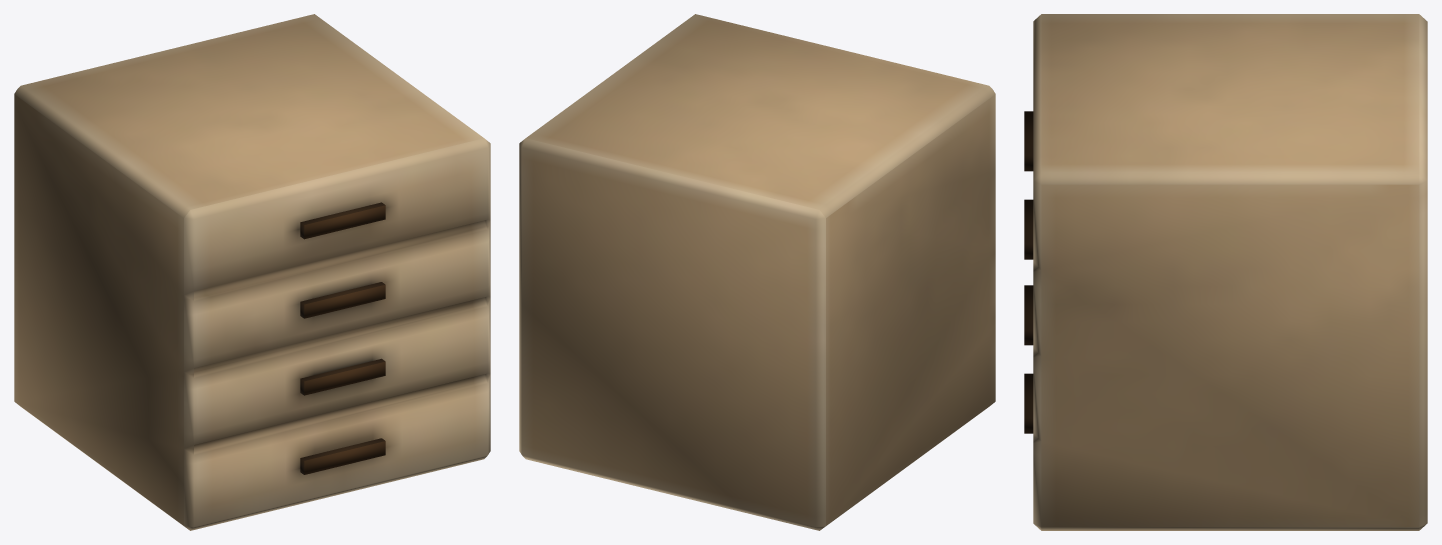
The model's file is Kitchen Cabinet1.fbx.
The picture shows the model from 3 angles, left to right: view 1: azimuth 30°, elevation 25°; view 2: azimuth 150°, elevation 25°; view 3: azimuth 270°, elevation 25°; orthographic projection. The views are drawn at different scales.
Parts seen in each view (by area): view 1: Kitchen Cabinet1; view 2: Kitchen Cabinet1; view 3: Kitchen Cabinet1.
Boxes of the visible parts, x1,y1,x2,y2 form: Kitchen Cabinet1: [14, 14, 490, 530]; Kitchen Cabinet1: [519, 14, 995, 530]; Kitchen Cabinet1: [1024, 14, 1427, 530].
Size of the model in its own units: 1 by 1 by 1.02.
1 material, 1 textured.
